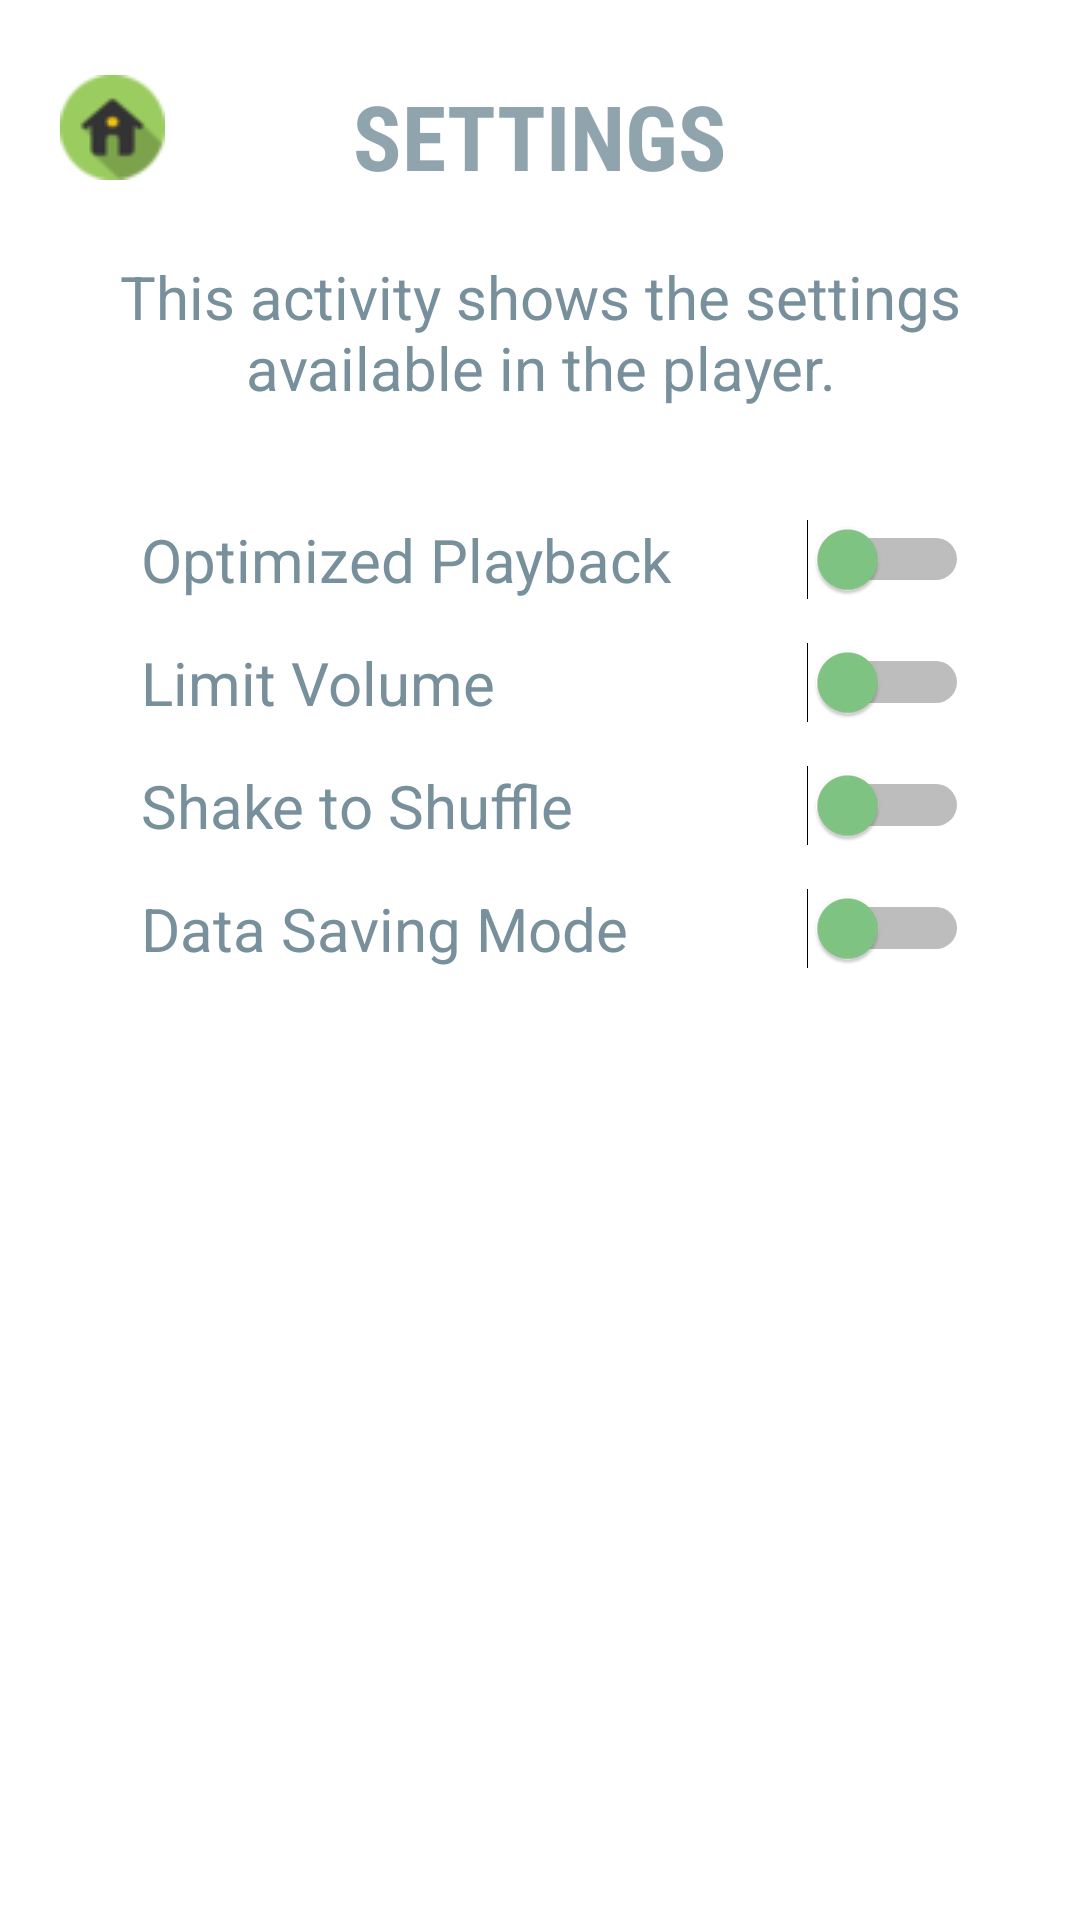

Screen size 1080 × 1920. Icon name, then its center in pixels as point (x, y):
Home Button: point (112, 127)
